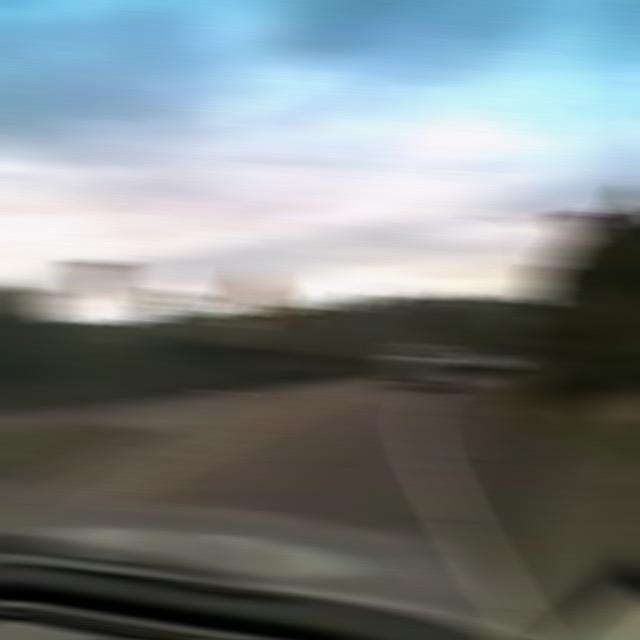yield: (556, 206, 618, 259), (68, 258, 128, 301)
